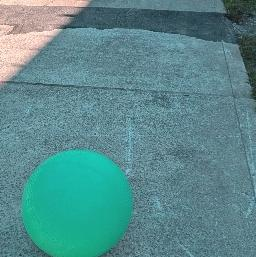algae: (22, 145, 133, 257)
